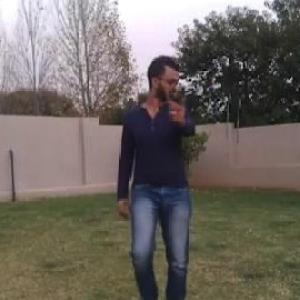takeoff-hand: (168, 83, 196, 128)
